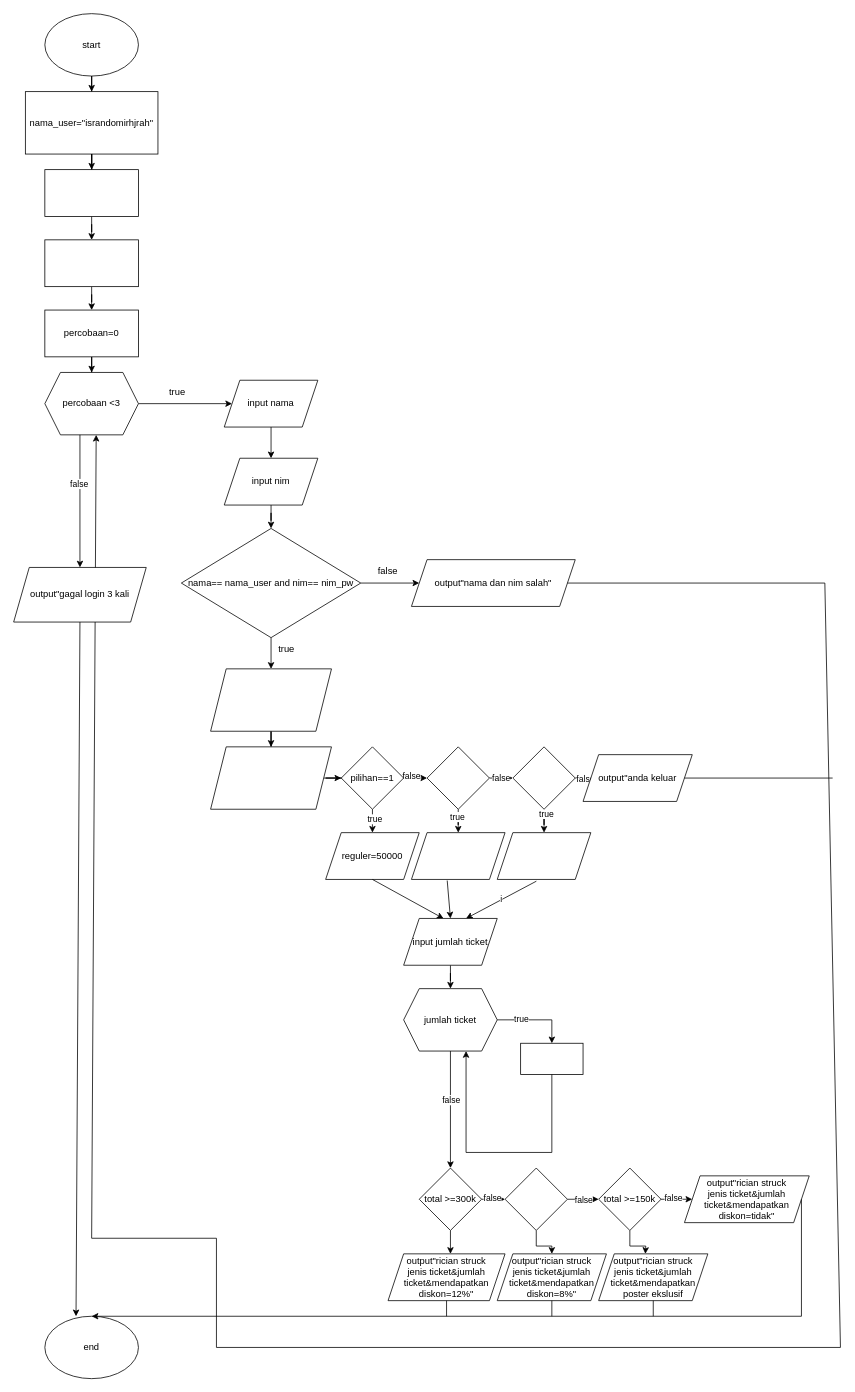
The diagram is 855 pixels wide and 1392 high, and some of its shapes have lost their labels. The shapes that lost their labels are listed below. From the top down, each one's centre as x and y in pixels, then its label:
point 91,192: nim_pw=2509106093
point 91,263: total=0
point 271,699: output"menu pembelian ticket"
point 271,777: input ticket yang dipilih
point 457,777: pilihan==2
point 543,777: pilihan==3
point 458,855: vip=100000
point 543,855: vvip=150000
point 551,1058: total +=harga
point 535,1198: total >=200k
